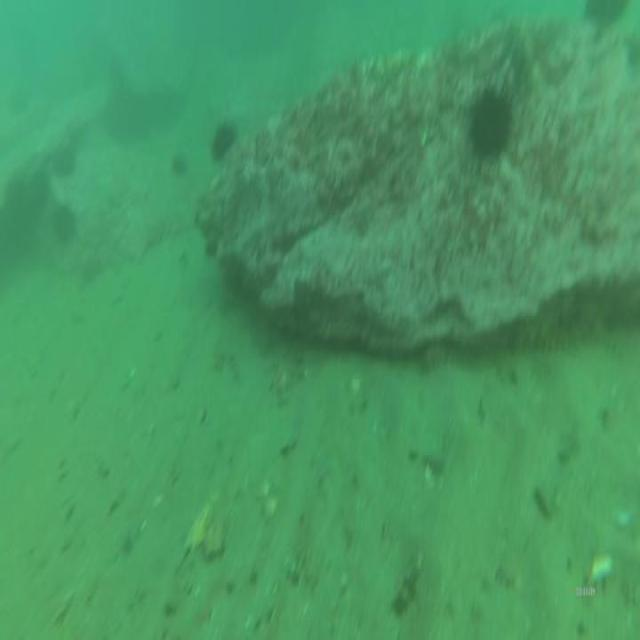echinus: (466, 71, 521, 179), (208, 116, 241, 172)
